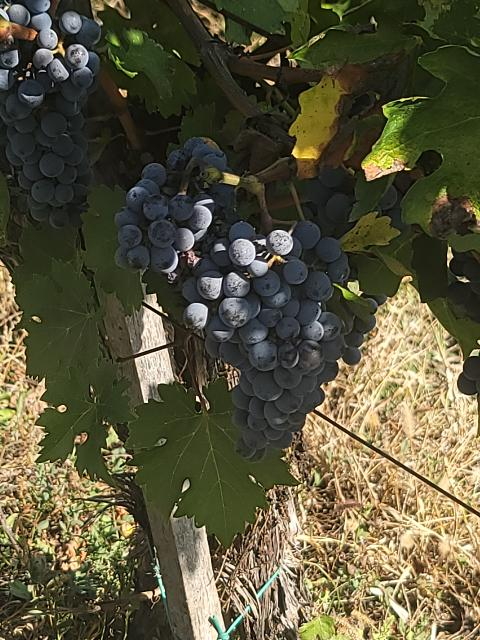grapes: (180, 220, 386, 461), (0, 44, 100, 229), (114, 162, 235, 274), (168, 138, 226, 170)
